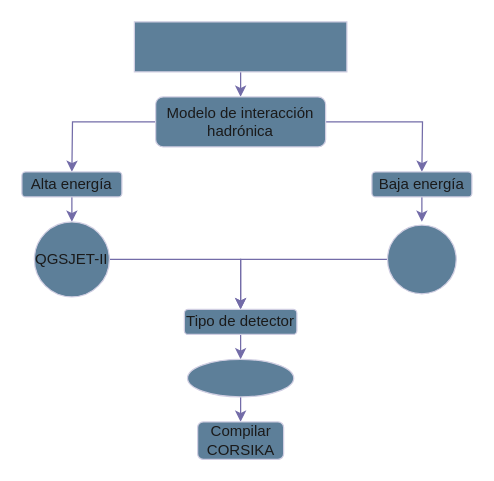
This 494x481 diagram has some shape labels left out. The box of each missing label's shape, as (x1, y1, x2, y2) in pixels:
FLUKA: (386, 224, 456, 294)
Simulación de Rayos Cósmcos con CORSIKA: (133, 21, 347, 72)
Volumétrico: (186, 358, 294, 397)
